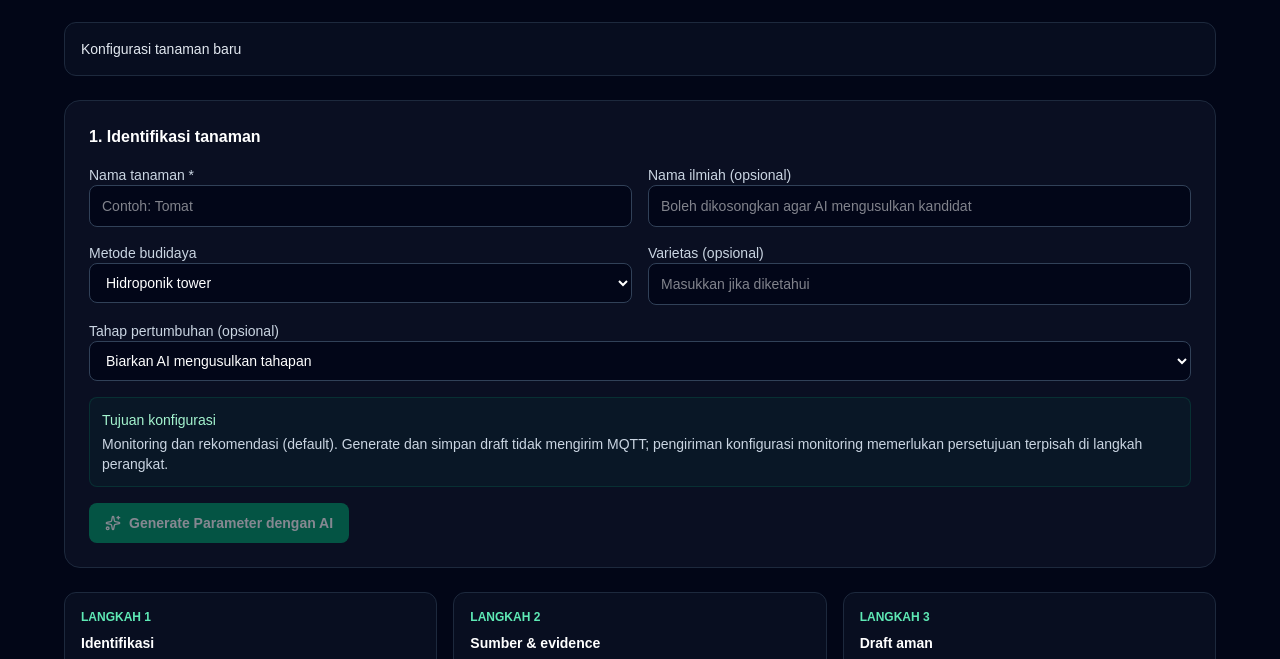
Test: AI Plant Setup page › lets an owner save generated candidates as a draft without requiring publication confirmation
Type "Tomat" into the field labelled "Nama tanaman *" at (360, 206), box x1=89 y1=185 x2=632 y2=227
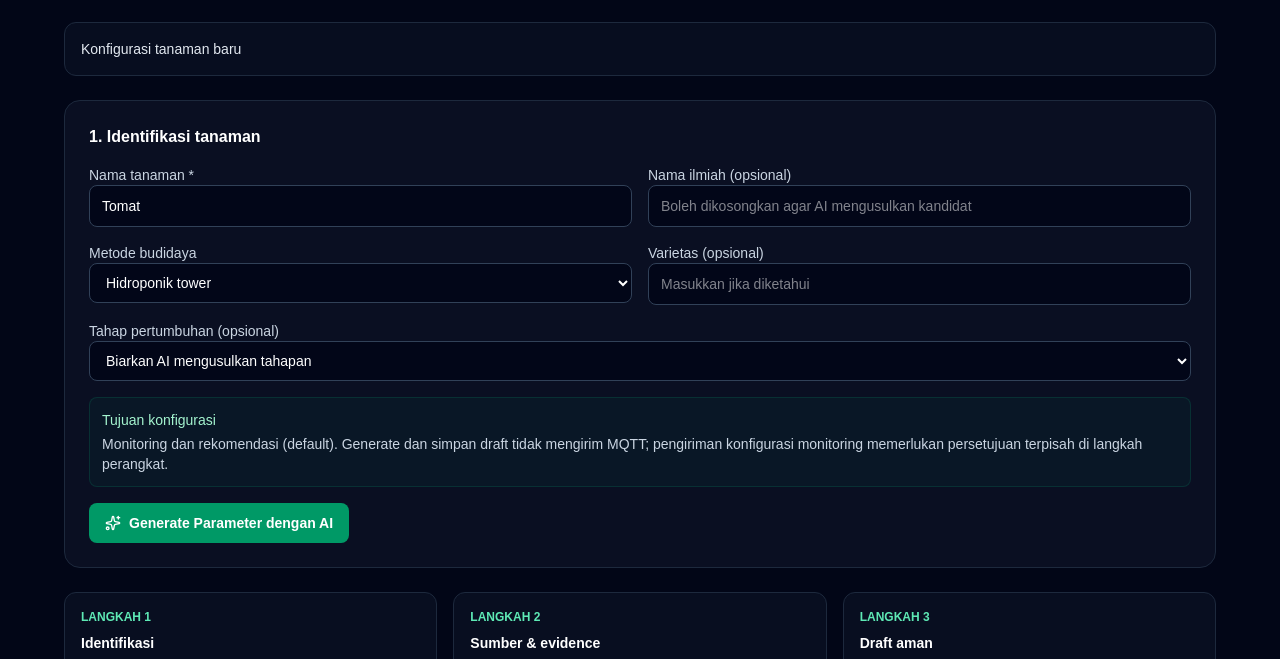
Click the button "Generate Parameter dengan AI" at (219, 523), box x1=89 y1=503 x2=349 y2=543
(page scrolled)
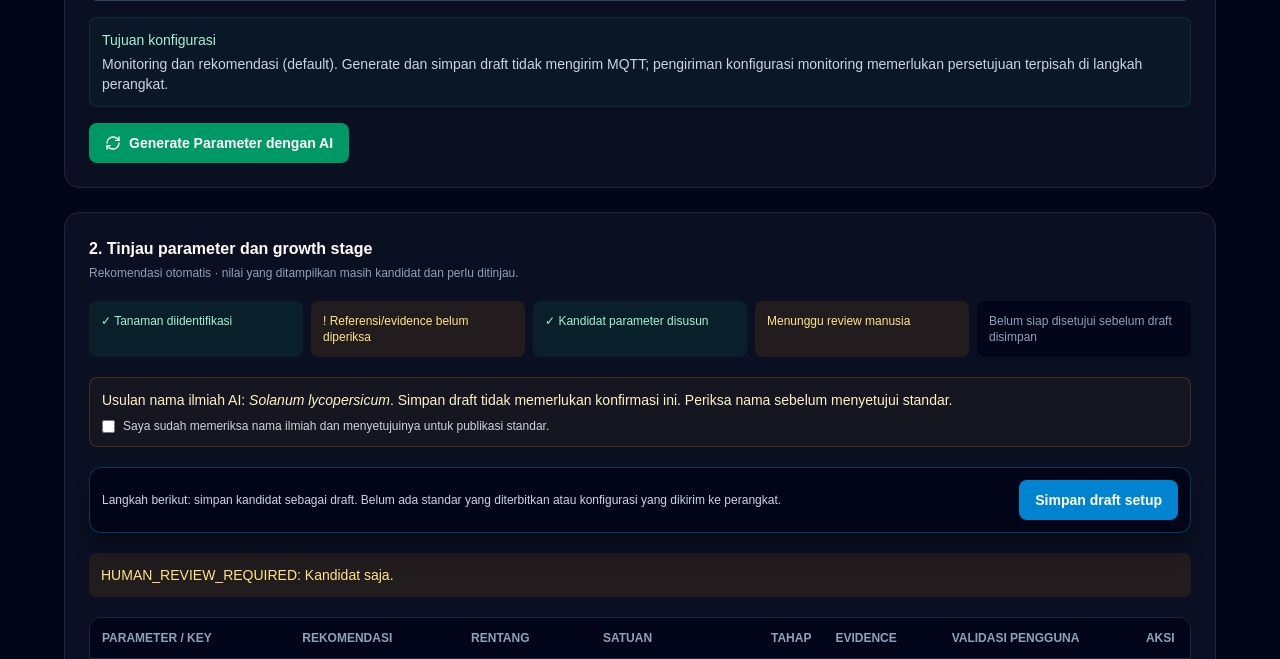
Expected: the text "Rekomendasi otomatis" is shown, x1=89 y1=266 x2=519 y2=280
Expected: the button "Simpan draft setup" is shown
Expected: the button "Simpan draft setup" is enabled
Click the button "Simpan draft setup" at (1099, 500), box x1=1019 y1=480 x2=1178 y2=520
(page scrolled)
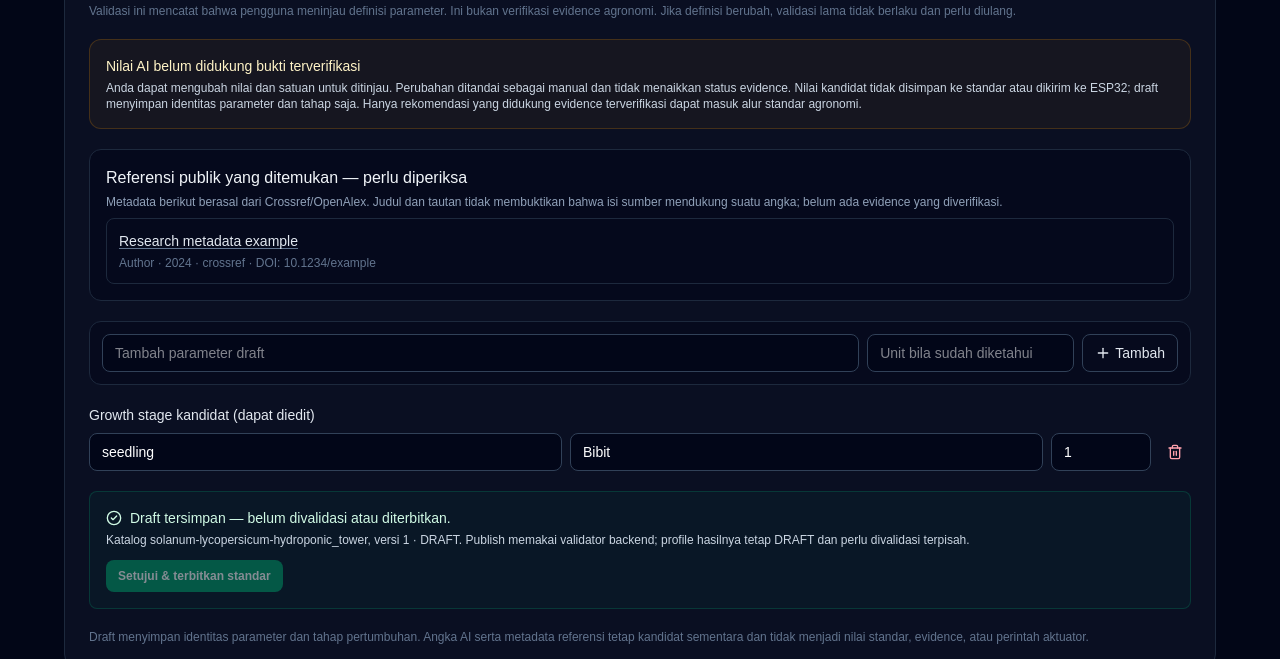
Expected: the text "Draft tersimpan — belum divalidasi atau diterbitkan." is shown, x1=106 y1=510 x2=451 y2=526
Expected: the button "Setujui & terbitkan standar" is disabled, x1=106 y1=560 x2=283 y2=592
